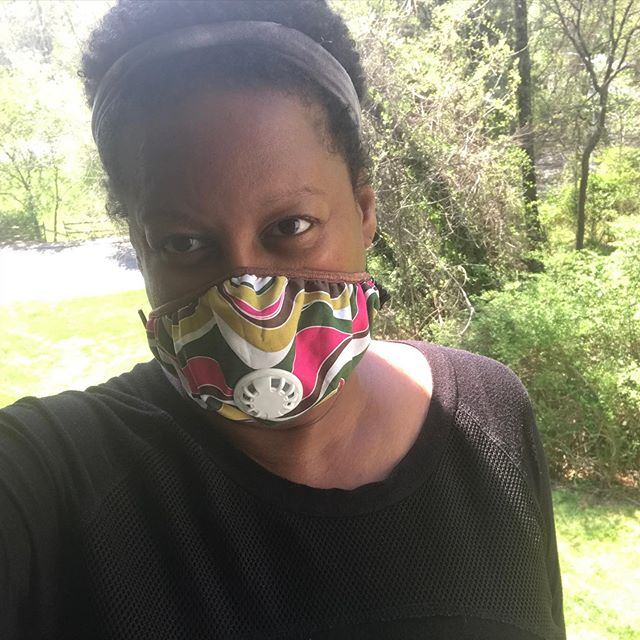homemade: (122, 267, 412, 427)
